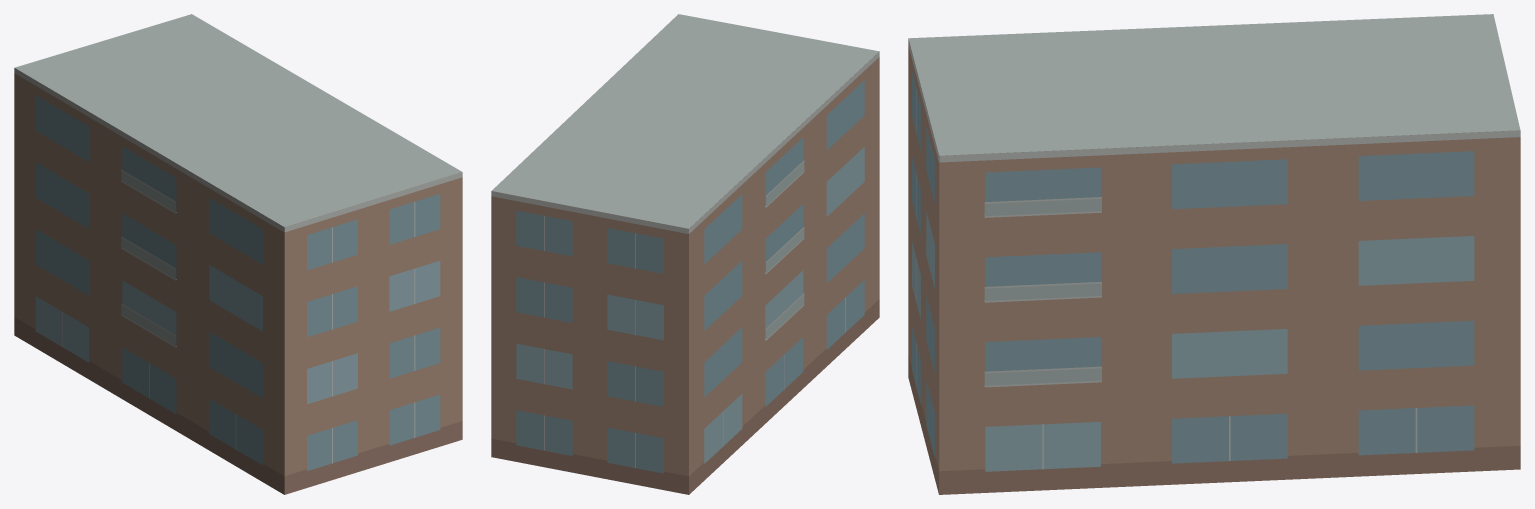
File: survey-upis-32663090.glb
3 renders of one model, left to right at view 1: azimuth 30°, elevation 25°; view 2: azimuth 150°, elevation 25°; view 3: azimuth 270°, elevation 25°, orthographic. The views are drawn at different scales.
Parts seen in each view (by area): view 1: survey-upis-32663090.tmp; view 2: survey-upis-32663090.tmp; view 3: survey-upis-32663090.tmp.
Part boxes in pixels (x1,y1,x2,y2): survey-upis-32663090.tmp: (14, 14, 462, 494); survey-upis-32663090.tmp: (491, 14, 879, 494); survey-upis-32663090.tmp: (908, 14, 1520, 494).
Bounding box in the file's own units: 10.95 × 12.2 × 19.97.
